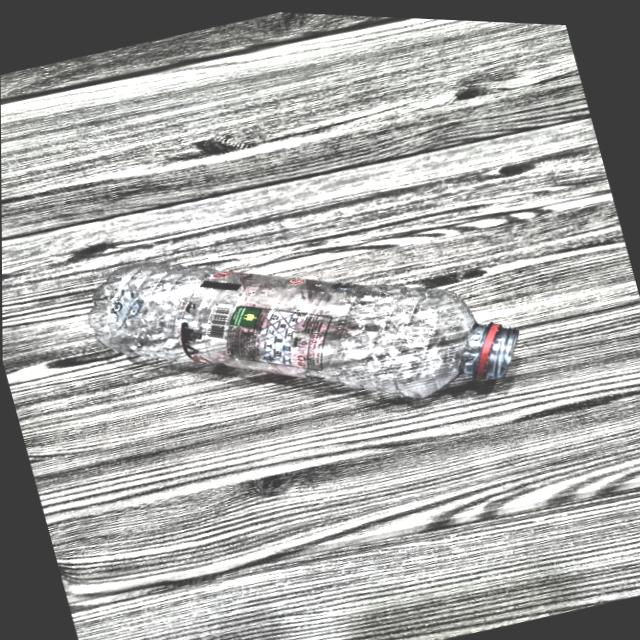Bottles: (63, 139, 554, 515)
